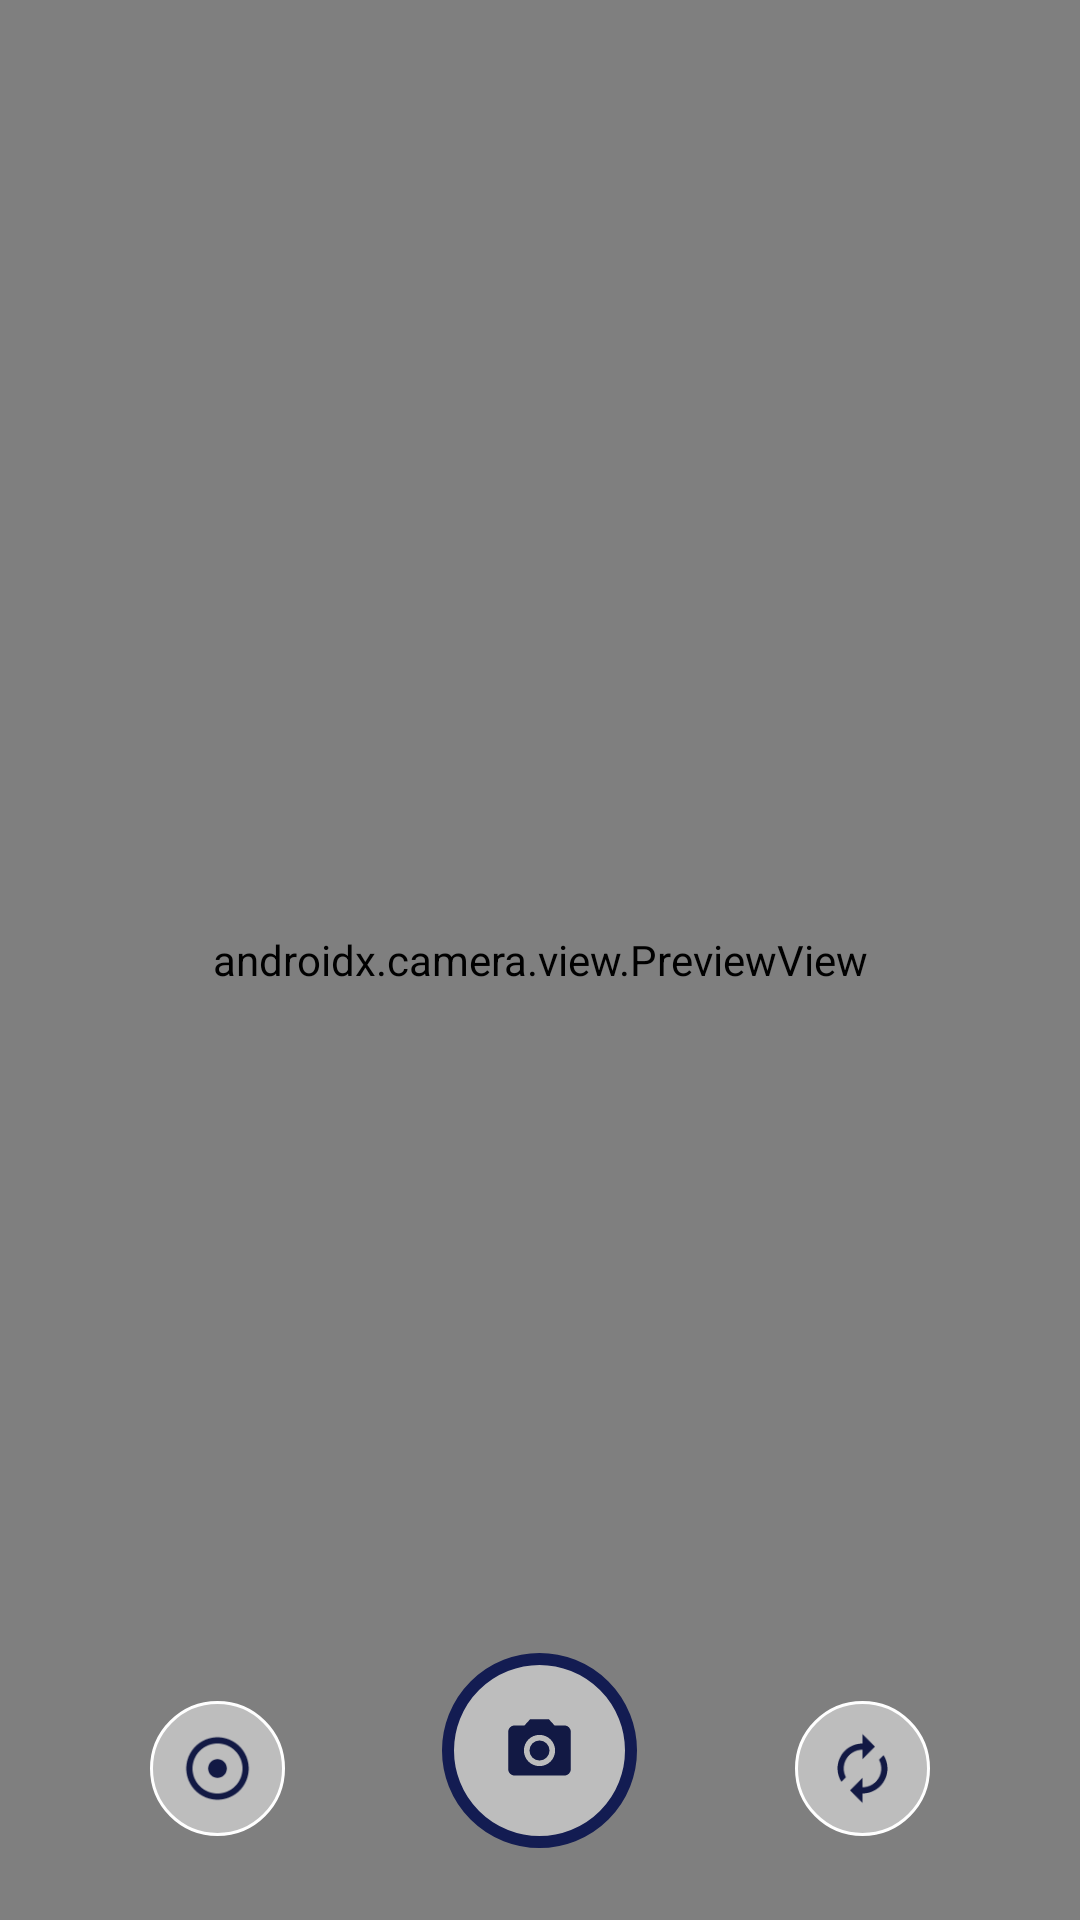

Point at icon controls on the screen. Image size 1080×1920, points as (x=x, y=y).
adjust: (x=217, y=1768)
autorenew: (x=862, y=1768)
